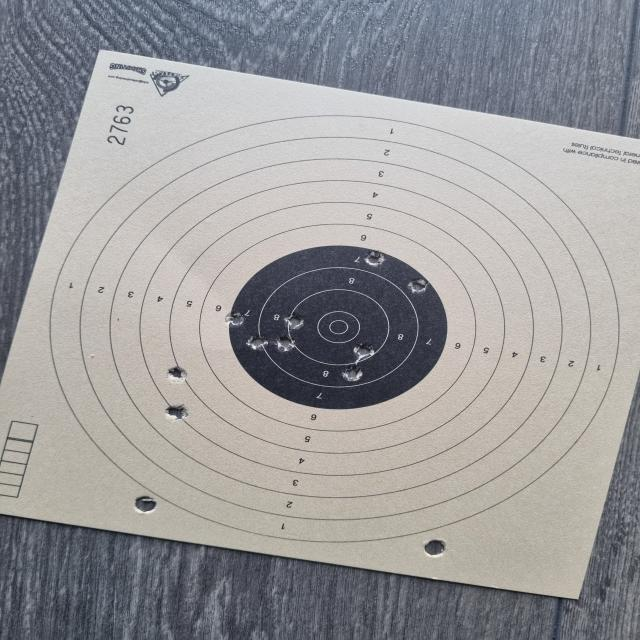4: (165, 402, 192, 422)
5: (166, 364, 187, 382)
7: (407, 278, 431, 295), (362, 249, 386, 266), (224, 312, 247, 326)
8: (342, 365, 366, 382), (246, 335, 268, 349)
9: (273, 336, 298, 352), (282, 313, 305, 330), (352, 344, 378, 359)
Target: (50, 115, 617, 545)
black_contour: (229, 246, 447, 410)
